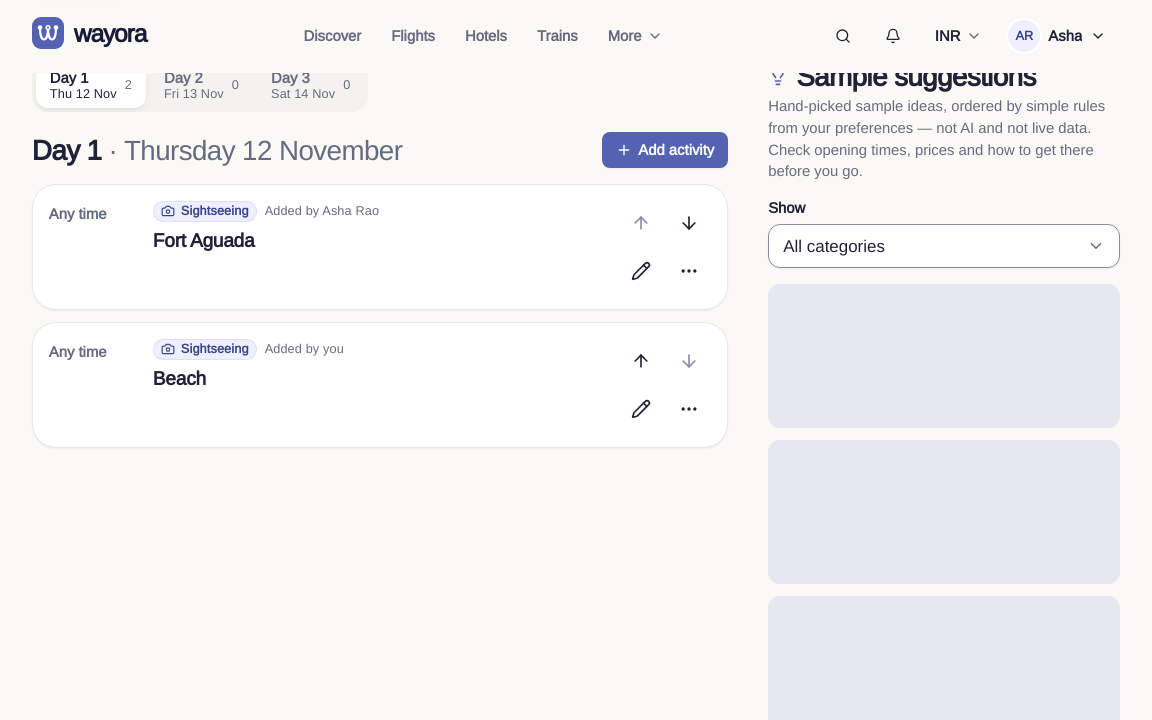
Scenario: conflicting edits › a reorder based on an old order is refused and the latest order shown
This screenshot has width=1152, height=720.
(page scrolled)
Click the button named "Move “Beach” up".
click(641, 361)  # box [619,339,663,383]
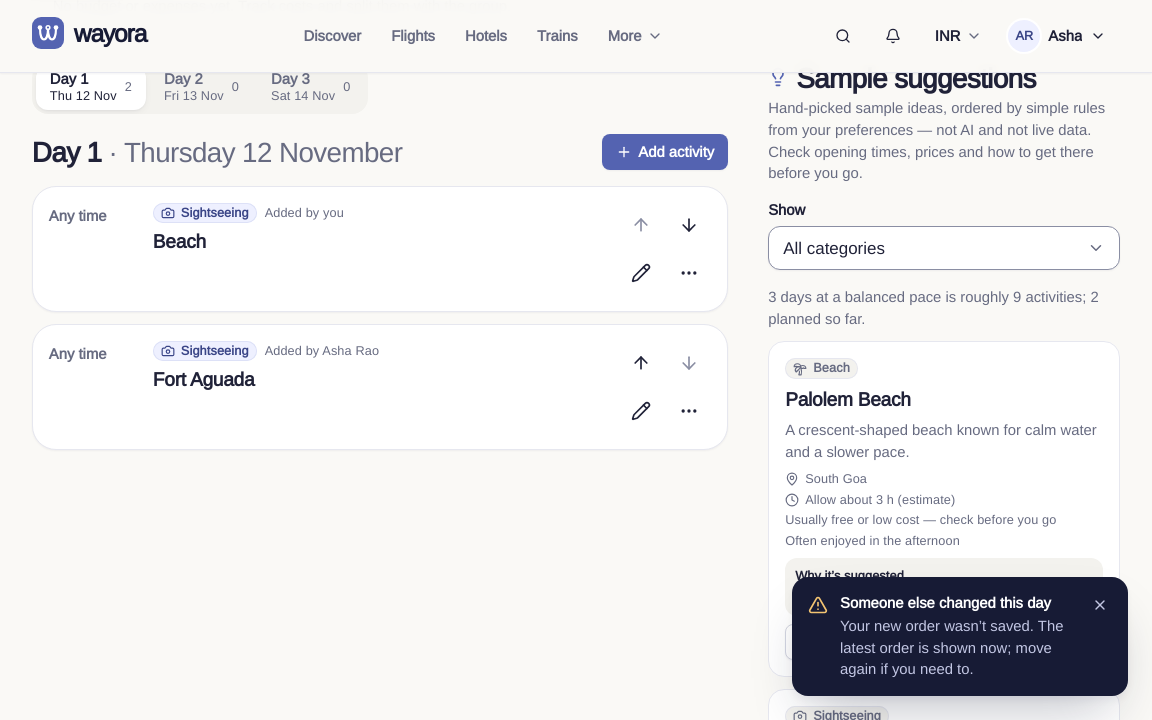
Expected: the text "Someone else changed this day" is shown, [840,593,1076,611]
